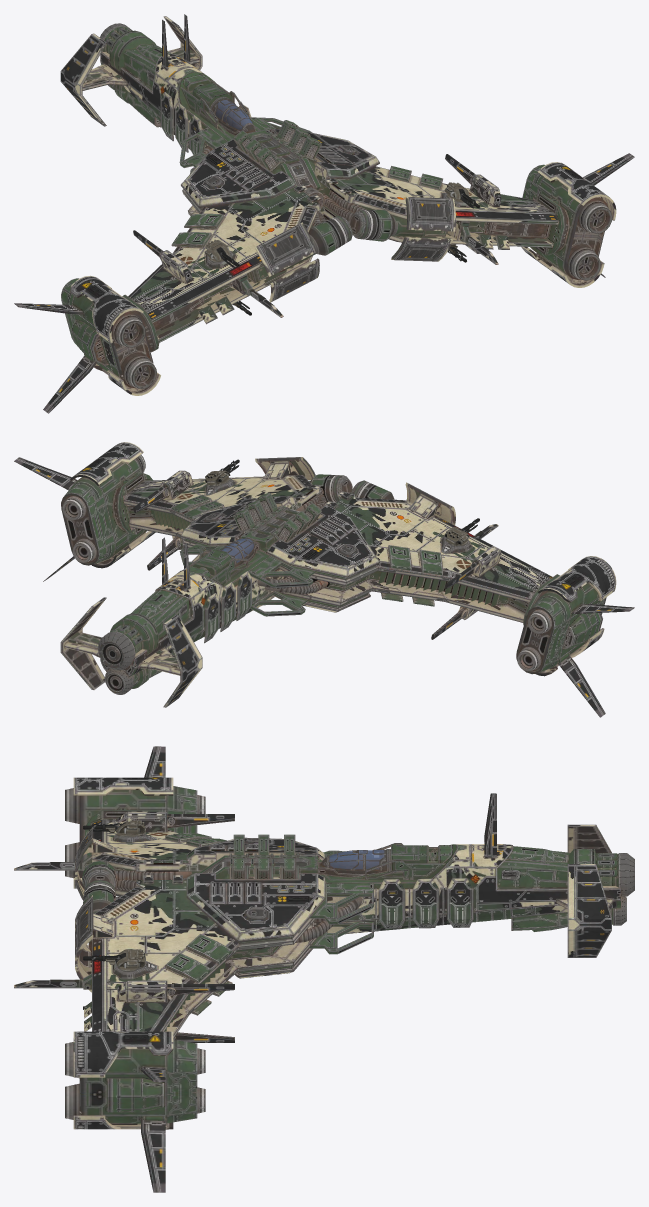
The model's file is mojir.glb.
3 renders of one model, top to bottom at view 1: azimuth 30°, elevation 25°; view 2: azimuth 150°, elevation 25°; view 3: azimuth 270°, elevation 25°, orthographic. The views are drawn at different scales.
Visible parts, largest first — view 1: Object_6, Object_5, pCylinder1; view 2: Object_6, Object_5, pCylinder1; view 3: Object_6, Object_5, pCylinder1.
Boxes of the visible parts, <box> form: Object_6: <box>14,14,634,413</box>; Object_5: <box>205,182,479,315</box>; pCylinder1: <box>215,100,252,129</box>; Object_6: <box>14,442,634,717</box>; Object_5: <box>205,459,479,546</box>; pCylinder1: <box>221,538,253,562</box>; Object_6: <box>14,746,634,1192</box>; Object_5: <box>83,820,145,1009</box>; pCylinder1: <box>329,850,384,869</box>.
Size of the model in its own units: 6.52 by 2.19 by 5.11.
Materials: 3 (2 with a texture image).
